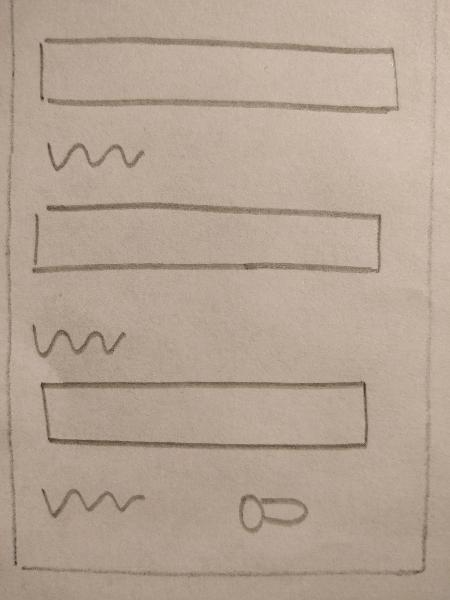switch: (232, 482, 314, 537)
text: (37, 479, 147, 523), (36, 134, 146, 175), (24, 318, 134, 359)
text_input: (33, 31, 404, 124), (22, 193, 393, 286), (36, 369, 374, 452)
